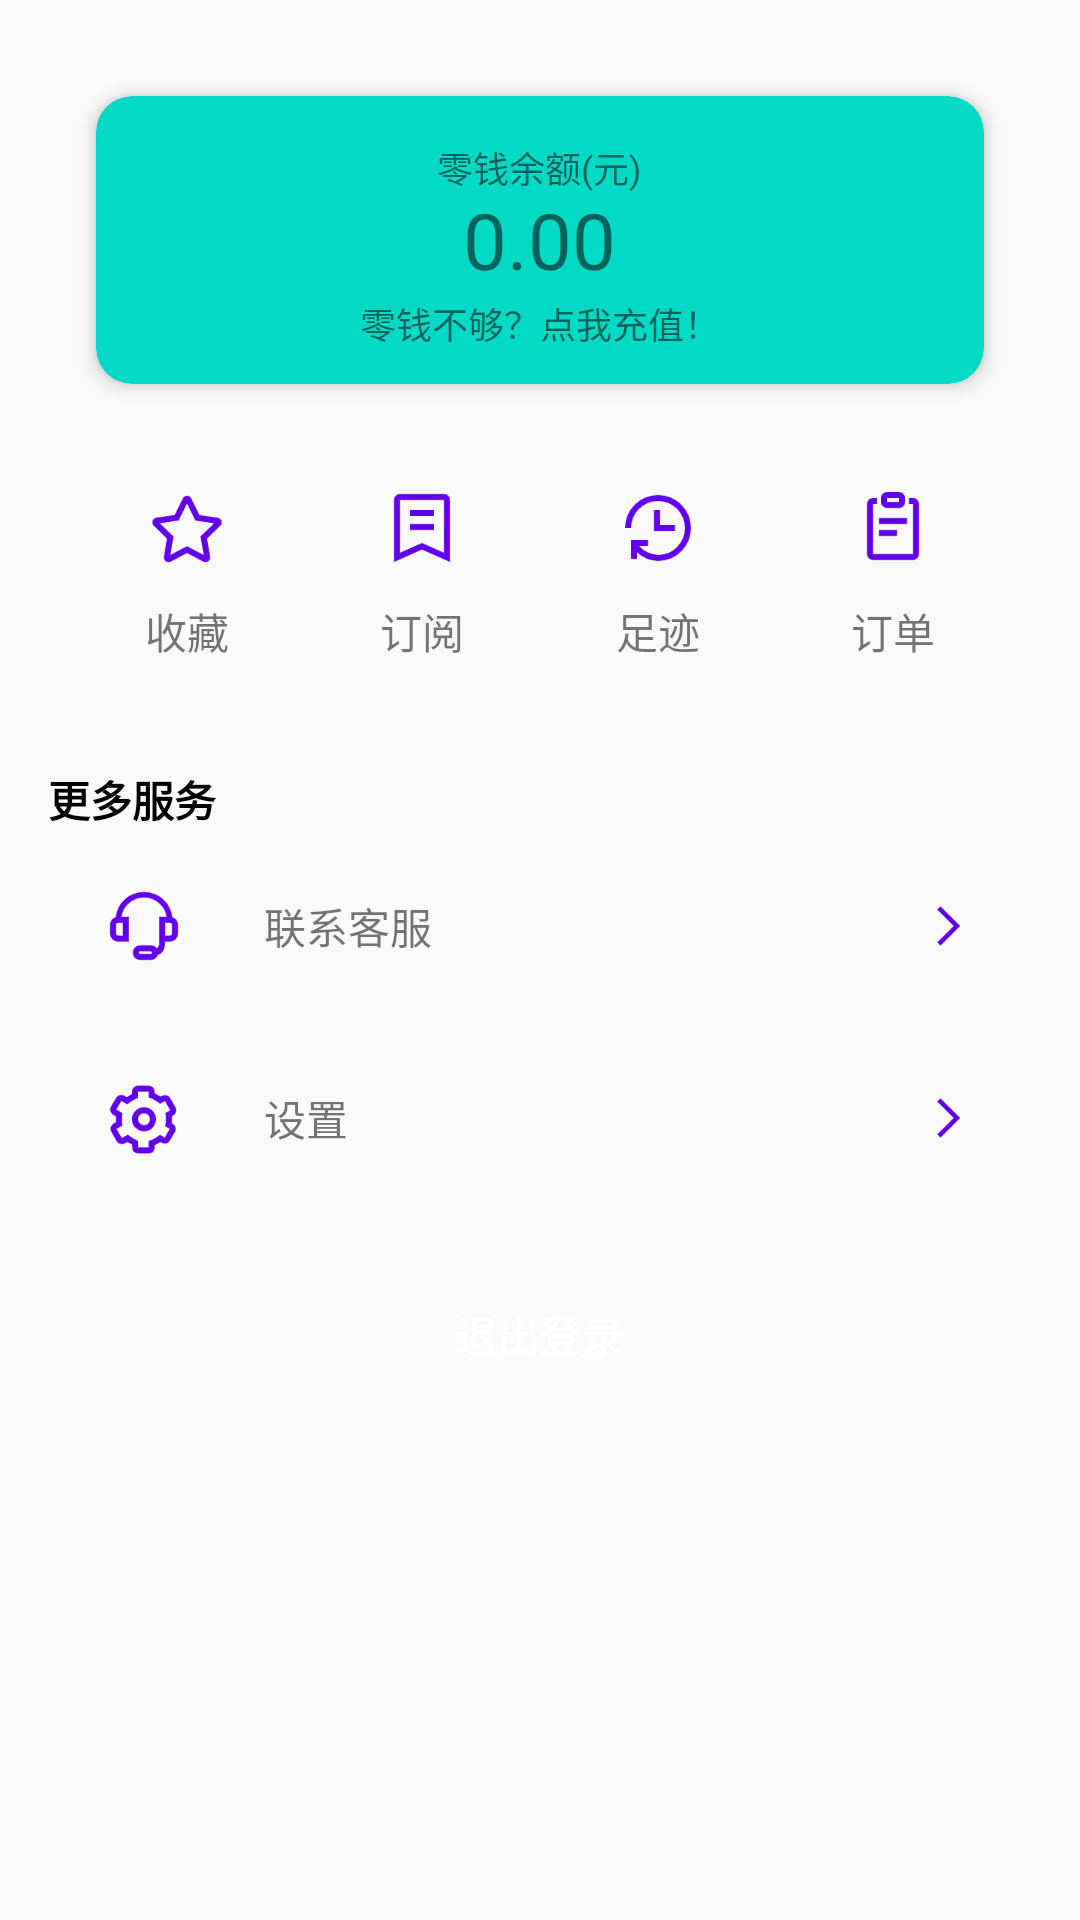

Where to tap for icons on this 1080 x 1920 app screen, as (x,y):
bitmap arrow right: (948,926), (948,1118)
bitmap history: (658,528)
bitmap order: (893,526)
bitmap service: (144,926)
bitmap setting: (143,1119)
bitmap subscription: (422,527)
collection: (187,529)
